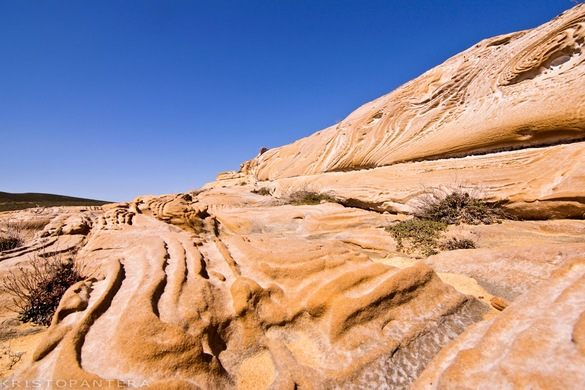volcanic_rock: (293, 177, 568, 390), (96, 242, 354, 390), (156, 204, 401, 320)
